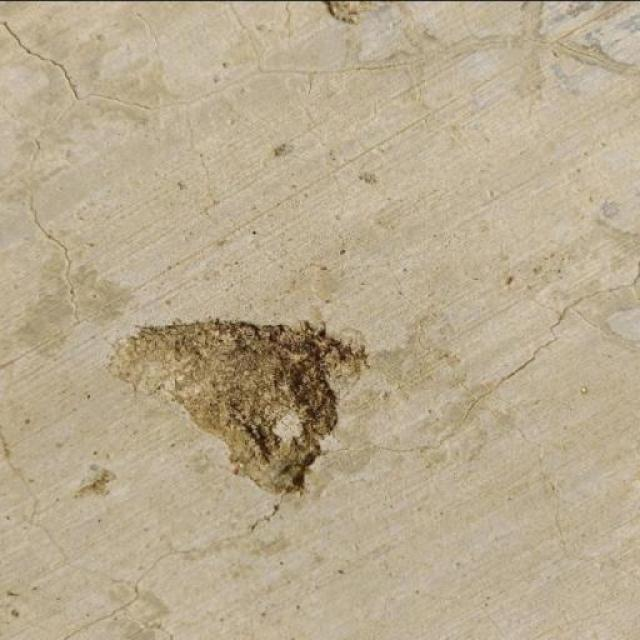D10: (105, 318, 361, 496), (320, 0, 395, 22)
